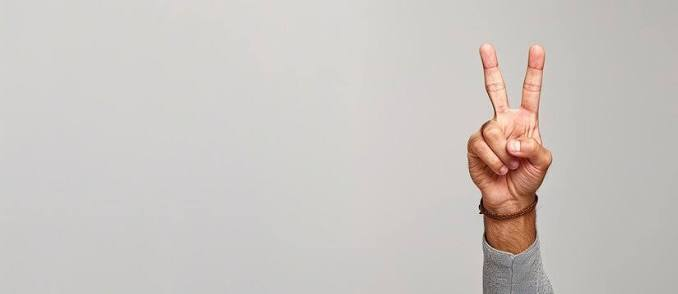peace_sign: (462, 31, 557, 212)
